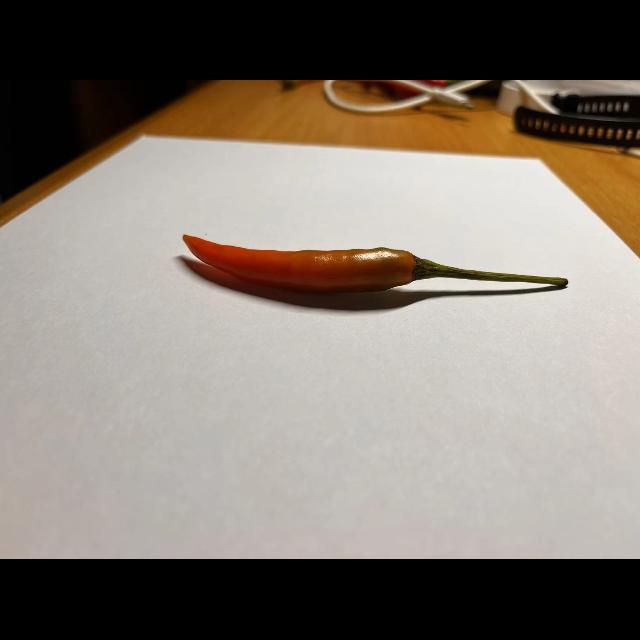chili_pepper: (171, 224, 581, 316)
